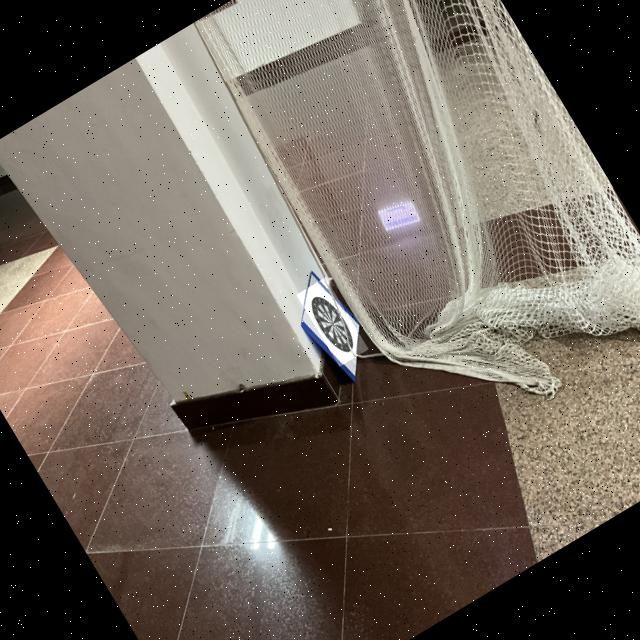archery-targets: (296, 276, 369, 366)
